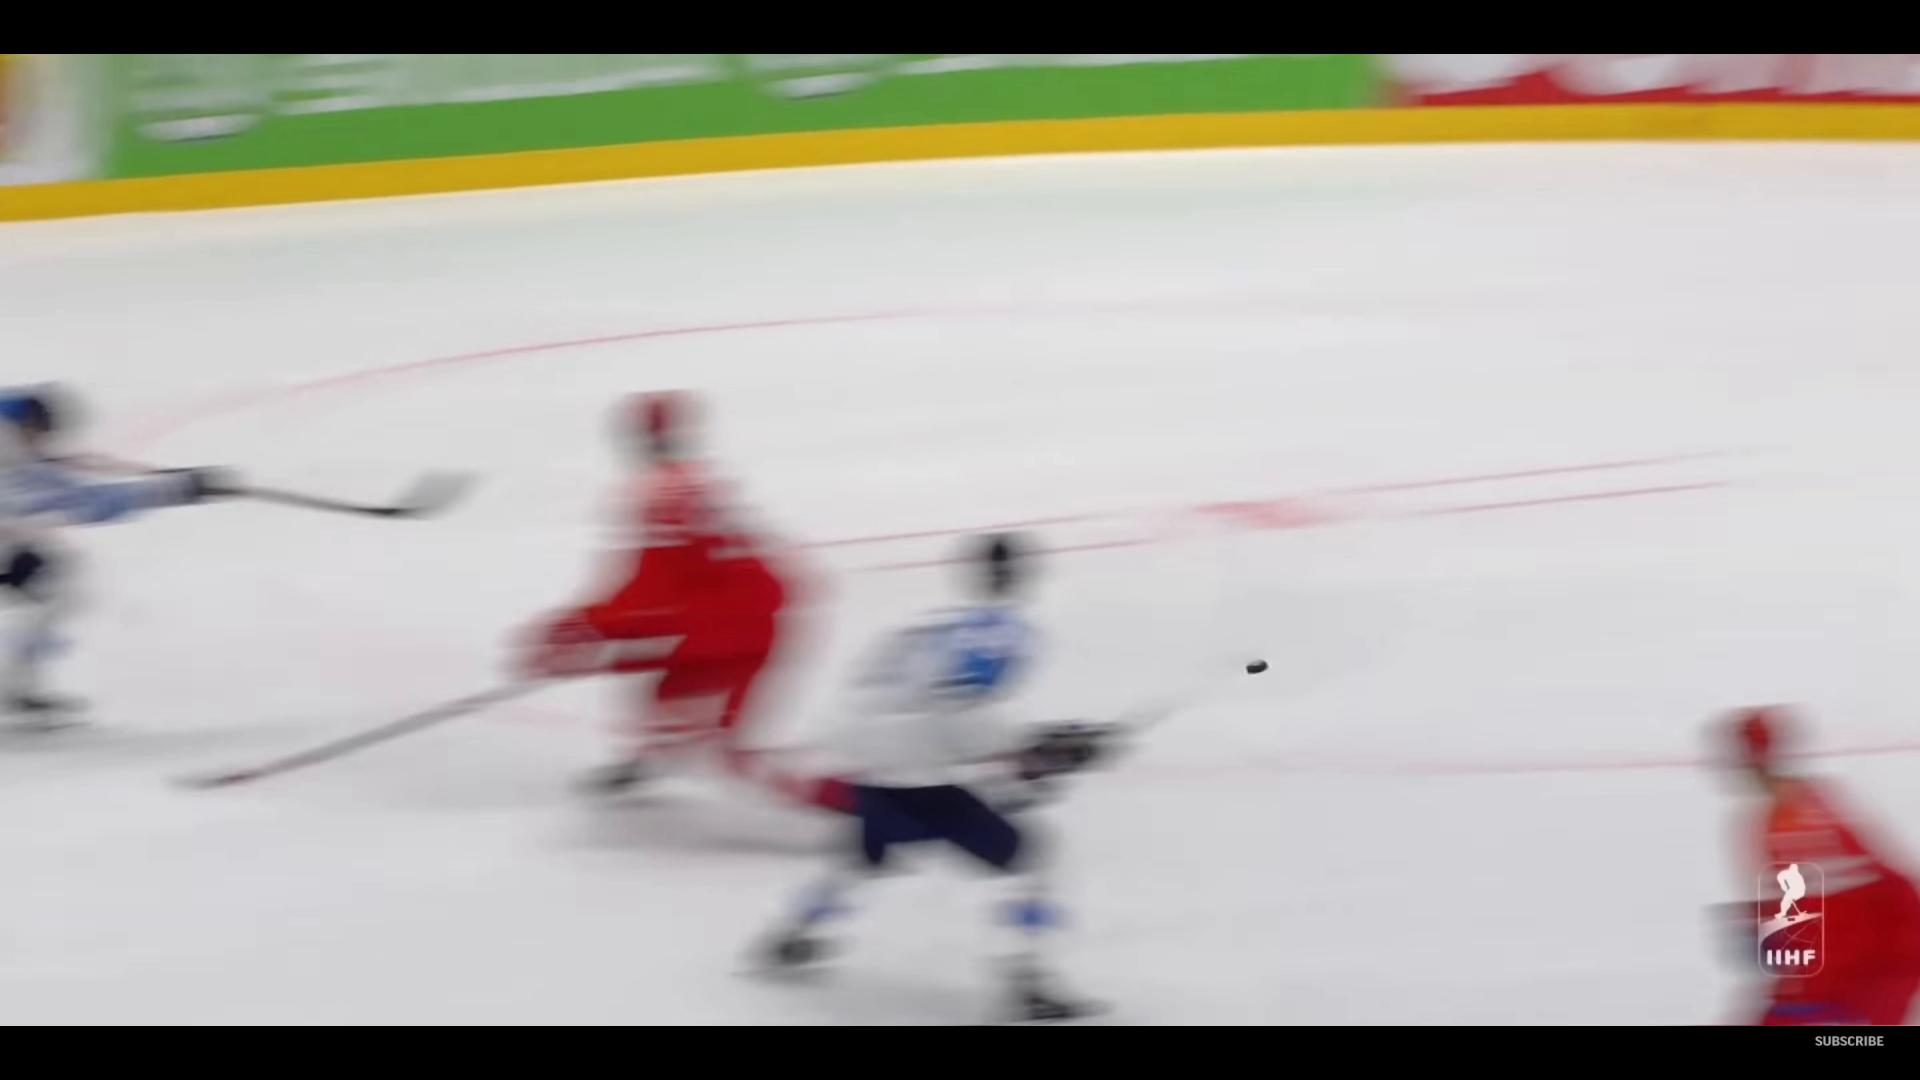puck: (1245, 657, 1269, 675)
